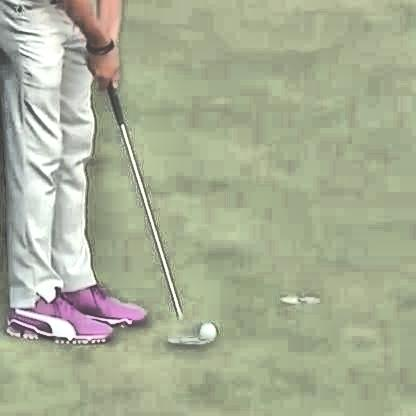golfball: (197, 316, 216, 338)
